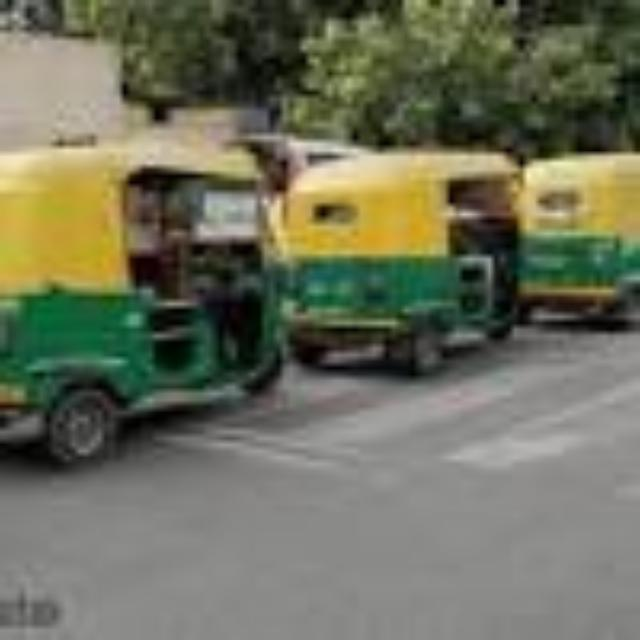person: (276, 141, 558, 401)
